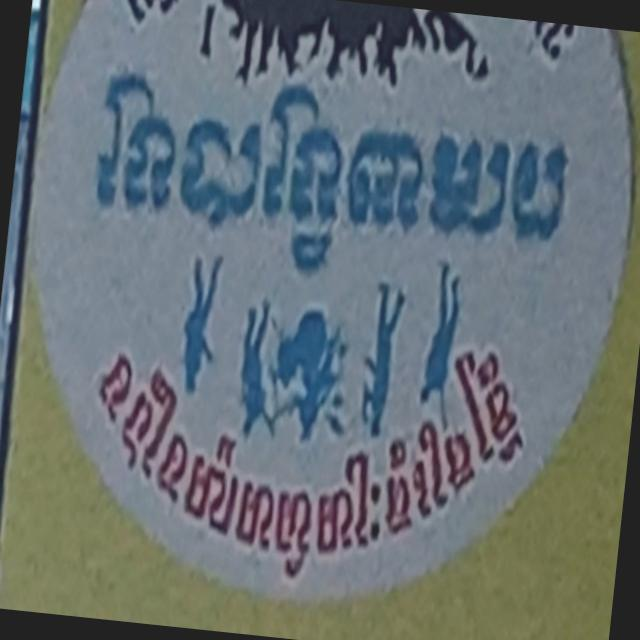Yolov11_80vkh: (79, 289, 545, 598)
